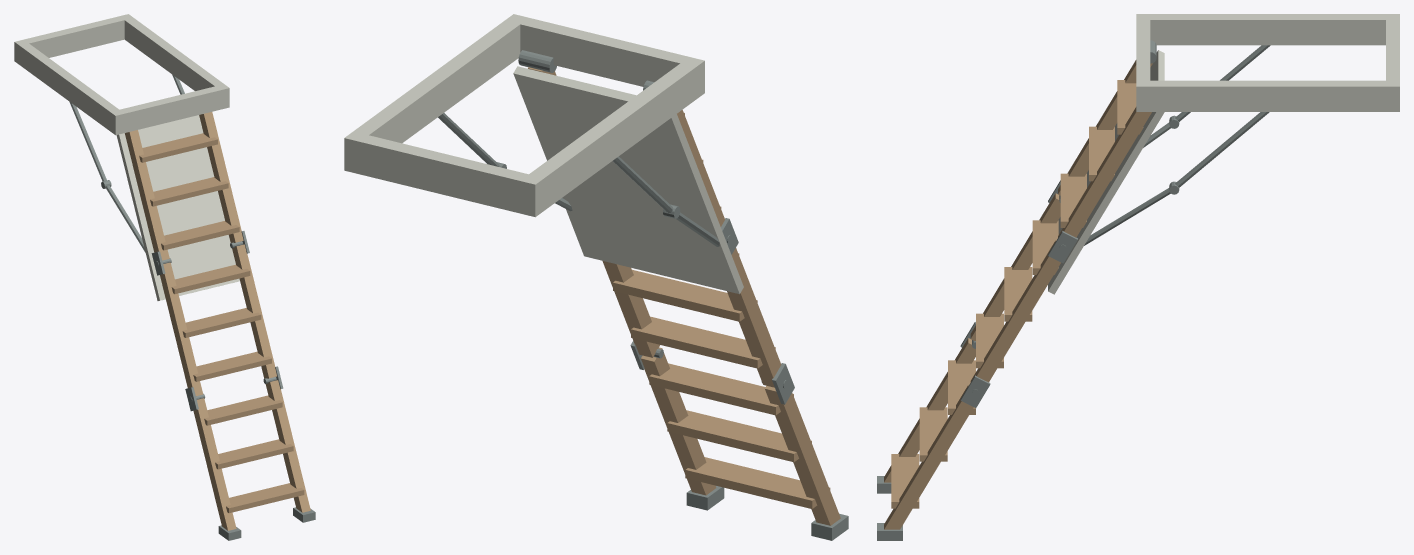
The picture shows the model from 3 angles, left to right: view 1: azimuth 30°, elevation 25°; view 2: azimuth 150°, elevation 25°; view 3: azimuth 270°, elevation 25°; orthographic projection. The views are drawn at different scales.
Visible parts, largest first — view 1: WholeHorizontalCeilingOpeningCurb, WholeLoweredHatchDoor, WholeSectionRail_-1_2, WholeSectionRail_-1_0, WholeSectionRail_-1_1, WholeSectionRail_1_1, WholeSectionRail_1_2, WholeSectionRail_1_0, WholeHorizontalTread_4, WholeHorizontalTread_6, WholeHorizontalTread_7, WholeHorizontalTread_5 (+7 smaller); view 2: WholeHorizontalCeilingOpeningCurb, WholeLoweredHatchDoor, WholeSectionRail_-1_2, WholeHorizontalTread_8, WholeHorizontalTread_6, WholeHorizontalTread_7, WholeHorizontalTread_4, WholeHorizontalTread_5, WholeSectionRail_1_2, WholeSectionRail_-1_1, WholeSectionRail_1_1, WholeSectionRail_-1_0 (+4 smaller); view 3: WholeHorizontalCeilingOpeningCurb, WholeLoweredHatchDoor, WholeSectionRail_1_2, WholeSectionRail_1_0, WholeSectionRail_1_1, WholeSectionRail_-1_1, WholeSectionRail_-1_2, WholeSectionRail_-1_0, WholeHorizontalTread_7, WholeHorizontalTread_4, WholeHorizontalTread_8, WholeHorizontalTread_5 (+7 smaller).
Boxes of the visible parts, <box> form: WholeHorizontalCeilingOpeningCurb: <box>14,14,229,135</box>; WholeLoweredHatchDoor: <box>116,115,239,300</box>; WholeSectionRail_-1_2: <box>193,398,236,530</box>; WholeSectionRail_-1_0: <box>125,130,169,260</box>; WholeSectionRail_-1_1: <box>160,262,203,396</box>; WholeSectionRail_1_1: <box>232,244,276,378</box>; WholeSectionRail_1_2: <box>265,380,310,512</box>; WholeSectionRail_1_0: <box>199,112,243,242</box>; WholeHorizontalTread_4: <box>182,308,261,337</box>; WholeHorizontalTread_6: <box>204,395,282,425</box>; WholeHorizontalTread_7: <box>215,439,293,469</box>; WholeHorizontalTread_5: <box>193,351,271,381</box>; WholeHorizontalCeilingOpeningCurb: <box>344,14,704,217</box>; WholeLoweredHatchDoor: <box>513,66,743,294</box>; WholeSectionRail_-1_2: <box>764,385,840,525</box>; WholeHorizontalTread_8: <box>685,457,830,508</box>; WholeHorizontalTread_6: <box>649,363,793,415</box>; WholeHorizontalTread_7: <box>667,410,811,462</box>; WholeHorizontalTread_4: <box>613,269,757,321</box>; WholeHorizontalTread_5: <box>631,316,775,368</box>; WholeSectionRail_1_2: <box>641,347,716,495</box>; WholeSectionRail_-1_1: <box>727,248,781,387</box>; WholeSectionRail_1_1: <box>602,261,659,357</box>; WholeSectionRail_-1_0: <box>677,110,724,226</box>; WholeHorizontalCeilingOpeningCurb: <box>1136,14,1399,111</box>; WholeLoweredHatchDoor: <box>1048,50,1164,294</box>; WholeSectionRail_1_2: <box>884,385,973,529</box>; WholeSectionRail_1_0: <box>1058,107,1151,237</box>; WholeSectionRail_1_1: <box>970,240,1060,382</box>; WholeSectionRail_-1_1: <box>970,193,1060,340</box>; WholeSectionRail_-1_2: <box>884,338,975,482</box>; WholeSectionRail_-1_0: <box>1058,60,1152,195</box>; WholeHorizontalTread_7: <box>919,407,947,461</box>; WholeHorizontalTread_4: <box>1004,267,1032,321</box>; WholeHorizontalTread_8: <box>891,454,919,508</box>; WholeHorizontalTread_5: <box>976,313,1003,368</box>.
Bounding box in the file's own units: 0.86 × 2.56 × 2.62.
